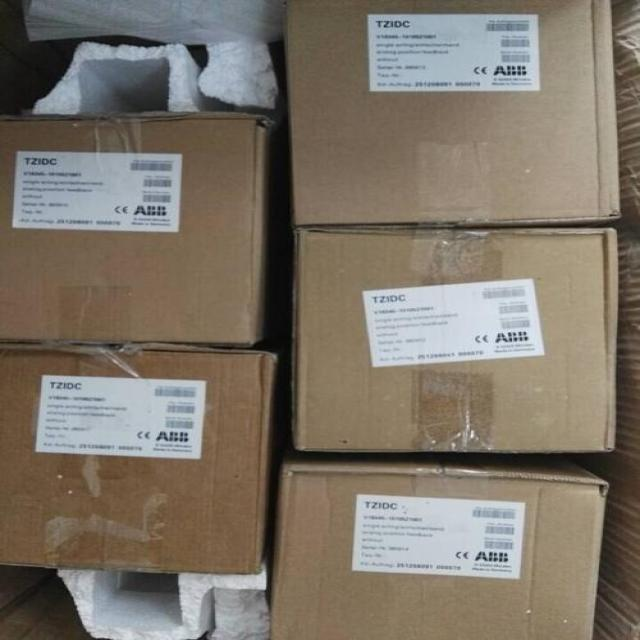box: (2, 2, 637, 637), (279, 0, 622, 228), (291, 228, 612, 450), (0, 115, 292, 352), (270, 447, 612, 639), (2, 341, 284, 573)
